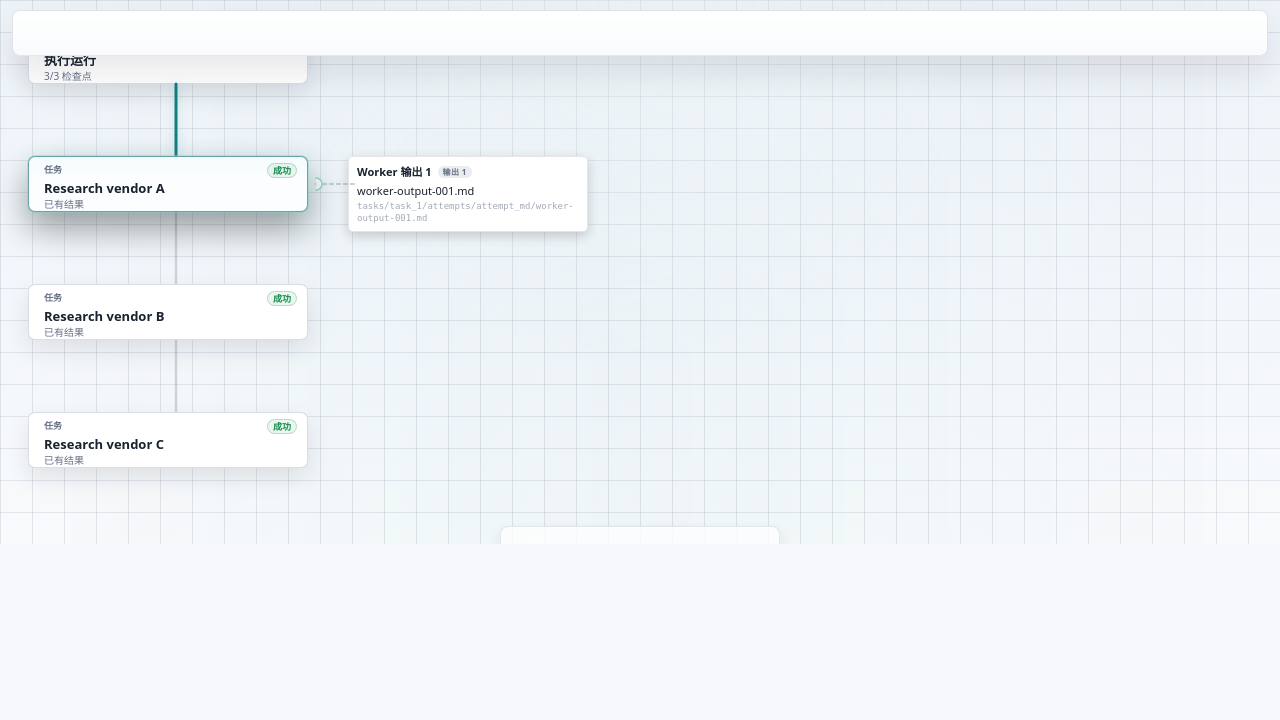
Test: Artifact preview nodes › markdown/text preview escapes script-like content as text
Click the text "Worker 输出 1": [394, 172] box [357,163,432,181]
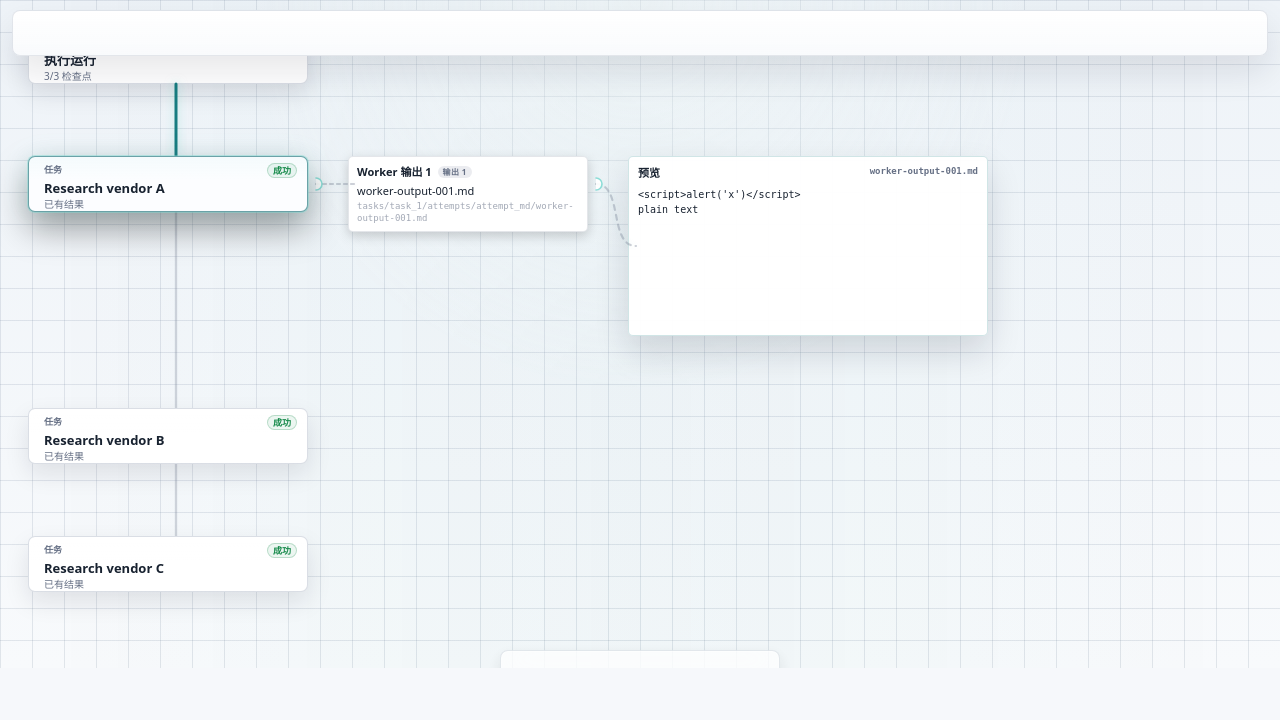
Check: the element with test id "artifact-preview" shows "<script>alert('x')</script>", box [638,189,801,215]
